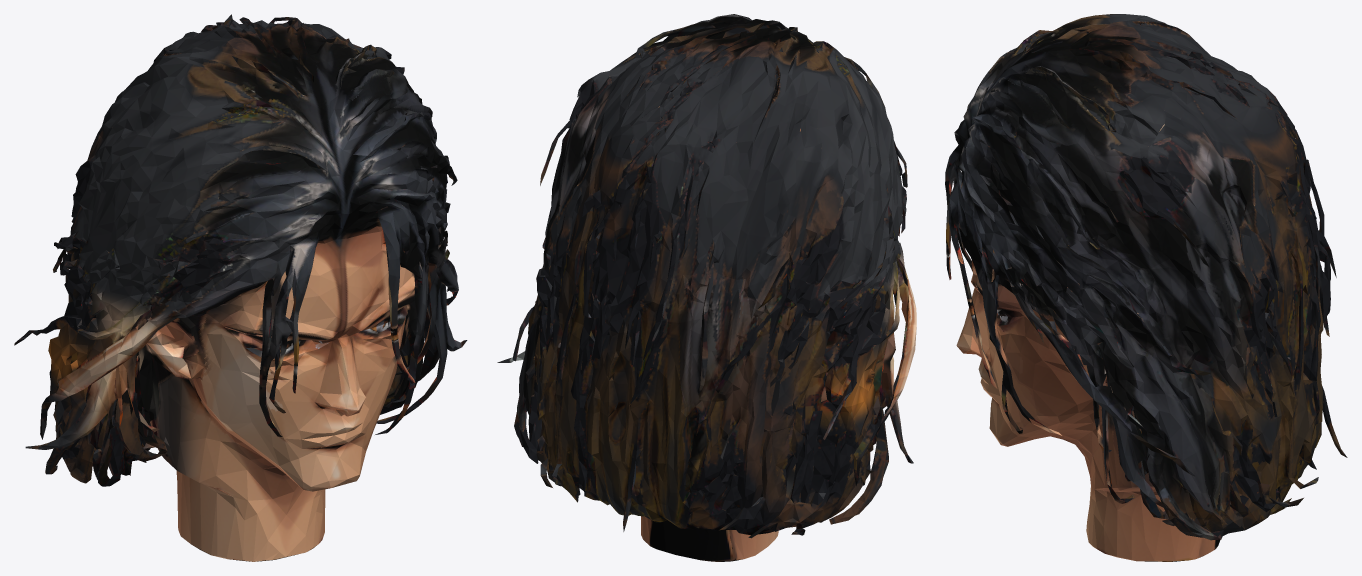
File: side_cartdriver_repaired_atlas.glb
3 renders of one model, left to right at view 1: azimuth 30°, elevation 25°; view 2: azimuth 150°, elevation 25°; view 3: azimuth 270°, elevation 25°, orthographic. The views are drawn at different scales.
Parts seen in each view (by area): view 1: temp_mesh.ply; view 2: temp_mesh.ply; view 3: temp_mesh.ply.
Boxes of the visible parts, bbox=[...] form: temp_mesh.ply: bbox=[14, 14, 467, 561]; temp_mesh.ply: bbox=[497, 14, 916, 561]; temp_mesh.ply: bbox=[945, 14, 1347, 561].
Size of the model in its own units: 1.79 by 1.97 by 1.46.
1 material, 1 textured.
